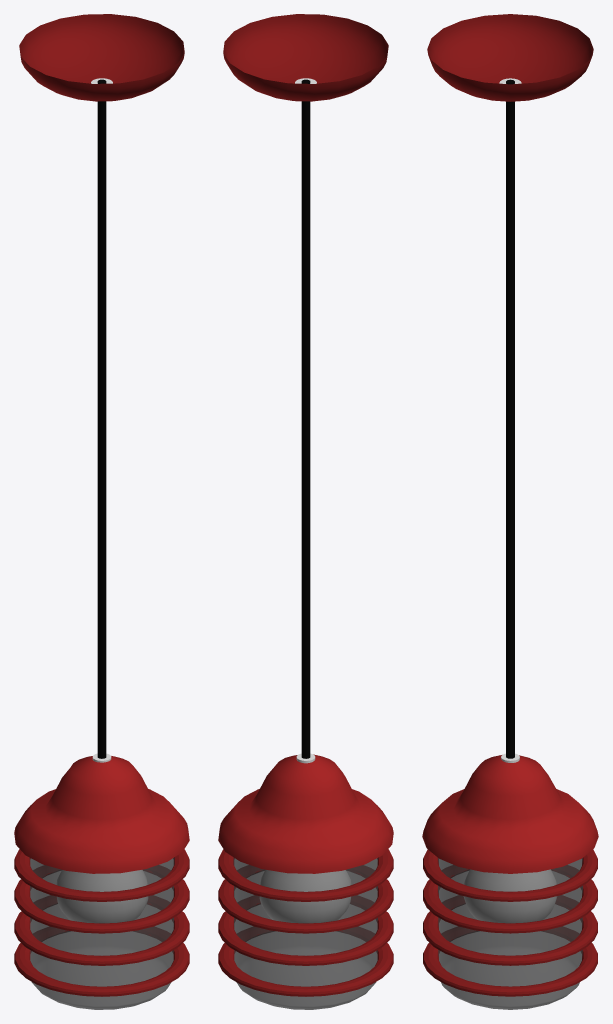
The model's file is pendant4.fbx.
The picture shows the model from 3 angles, left to right: view 1: azimuth 30°, elevation 25°; view 2: azimuth 150°, elevation 25°; view 3: azimuth 270°, elevation 25°; orthographic projection.
Parts seen in each view (by area): view 1: pSphere2, pSphere1, pSphere3, pCylinder1, bulb, pTorus3, pTorus4, pTorus5, pTorus6; view 2: pSphere2, pSphere1, pSphere3, pCylinder1, bulb, pTorus3, pTorus4, pTorus5, pTorus6; view 3: pSphere2, pSphere1, pSphere3, pCylinder1, bulb, pTorus3, pTorus4, pTorus5, pTorus6.
Boxes of the visible parts, bbox=[...] form: pSphere2: bbox=[14, 756, 189, 873]; pSphere1: bbox=[29, 857, 174, 1009]; pSphere3: bbox=[19, 14, 184, 101]; pCylinder1: bbox=[97, 79, 106, 758]; bulb: bbox=[57, 870, 147, 922]; pTorus3: bbox=[14, 927, 189, 996]; pTorus4: bbox=[14, 895, 189, 965]; pTorus5: bbox=[14, 865, 189, 933]; pTorus6: bbox=[14, 849, 189, 901]; pSphere2: bbox=[218, 754, 393, 873]; pSphere1: bbox=[233, 857, 378, 1009]; pSphere3: bbox=[223, 14, 388, 101]; pCylinder1: bbox=[301, 79, 310, 758]; bulb: bbox=[260, 870, 350, 922]; pTorus3: bbox=[218, 927, 393, 996]; pTorus4: bbox=[218, 895, 393, 965]; pTorus5: bbox=[218, 865, 393, 933]; pTorus6: bbox=[218, 849, 393, 901]; pSphere2: bbox=[422, 755, 598, 873]; pSphere1: bbox=[438, 858, 582, 1009]; pSphere3: bbox=[427, 14, 593, 101]; pCylinder1: bbox=[506, 79, 514, 758]; bulb: bbox=[464, 869, 556, 922]; pTorus3: bbox=[423, 927, 597, 996]; pTorus4: bbox=[423, 895, 597, 965]; pTorus5: bbox=[423, 865, 597, 933]; pTorus6: bbox=[423, 849, 597, 901].
Size of the model in its own units: 13.12 by 77.52 by 13.12.
